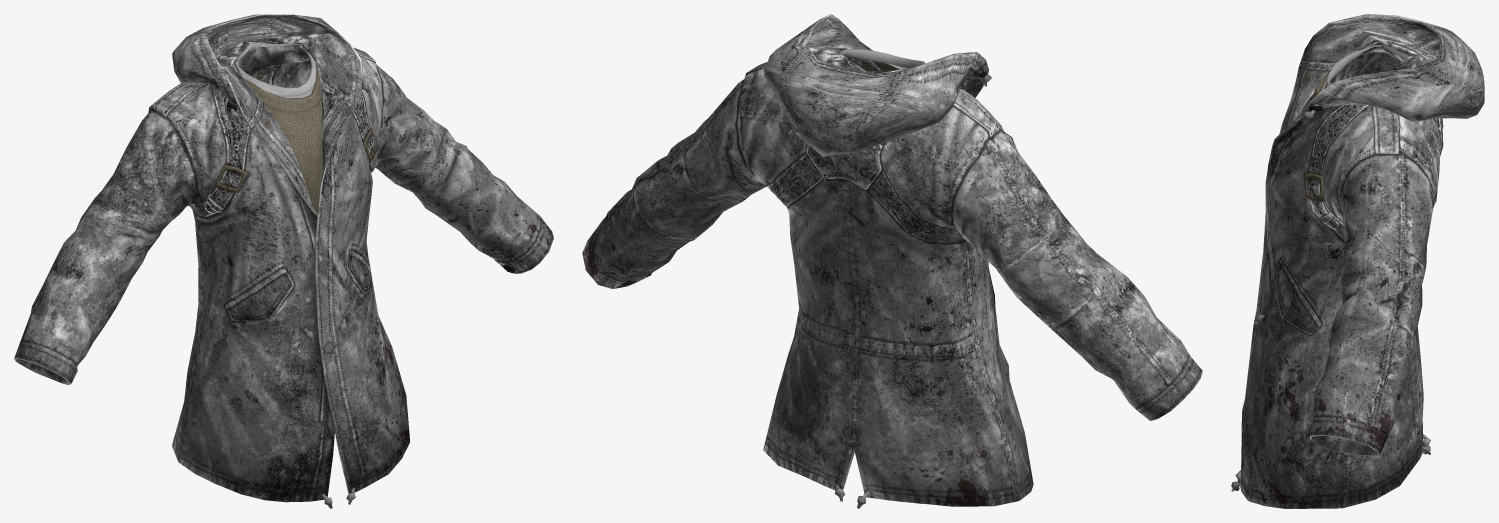
File: SurvivorMale_Chest_Parka_M65_Down_LOD0.glb
3 views of the same model, side by side, from view 1: azimuth 30°, elevation 25°; view 2: azimuth 150°, elevation 25°; view 3: azimuth 270°, elevation 25° (orthographic). The views are drawn at different scales.
Parts seen in each view (by area): view 1: Hoodie; view 2: Hoodie; view 3: Hoodie.
Boxes of the visible parts, x1,y1,x2,y2 form: Hoodie: (14, 14, 553, 508); Hoodie: (582, 14, 1202, 508); Hoodie: (1231, 14, 1484, 508).
Bounding box in the file's own units: 1.2 × 0.9168 × 0.4732.
1 material, 1 textured.
